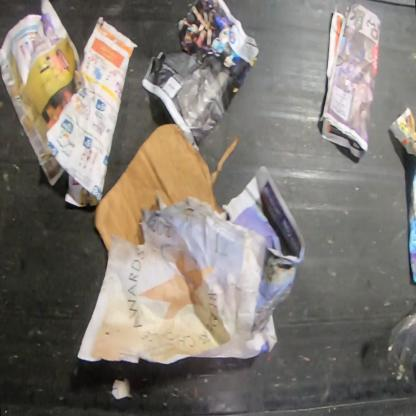cardboard: (95, 124, 239, 250)
soft_plastic: (386, 311, 415, 395)
